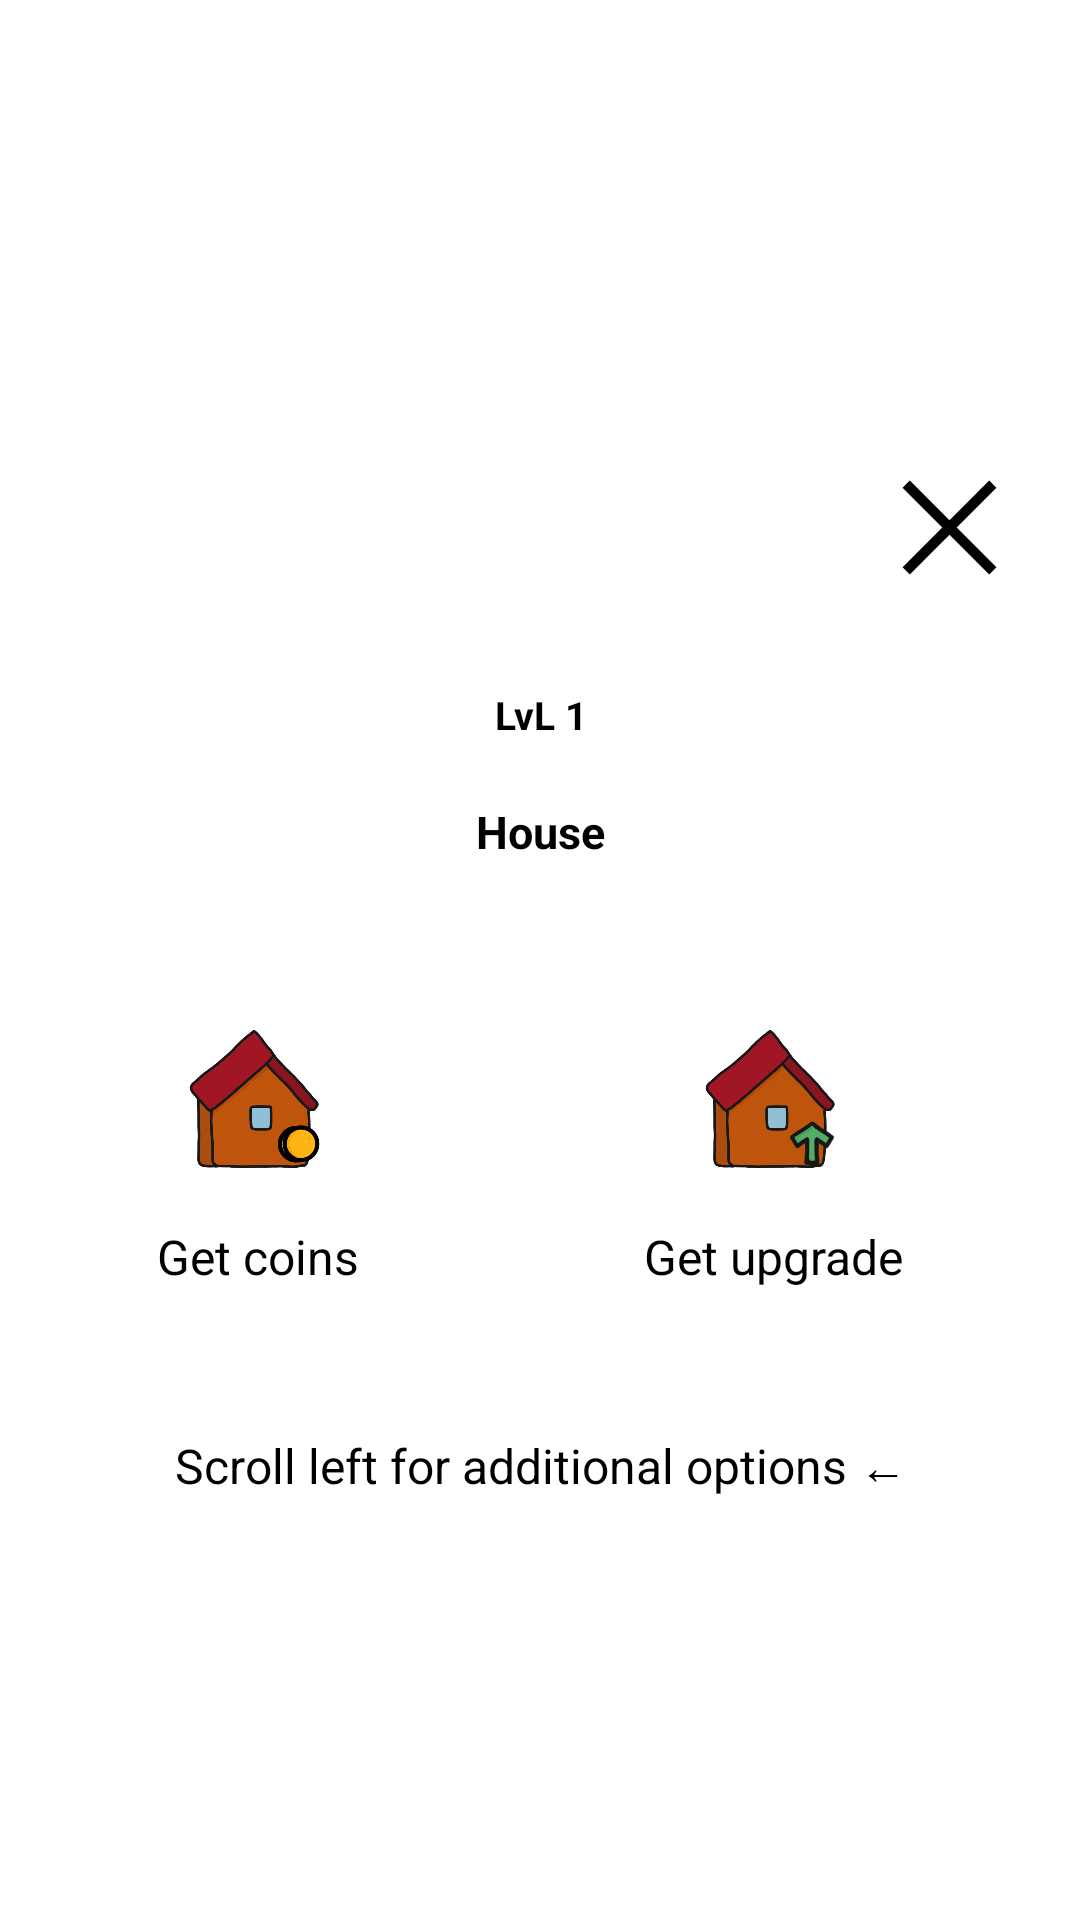

Point at icon controls on the screen. Image size 1080px x 1920px, points as (x,y).
magicworld close: (949,527)
